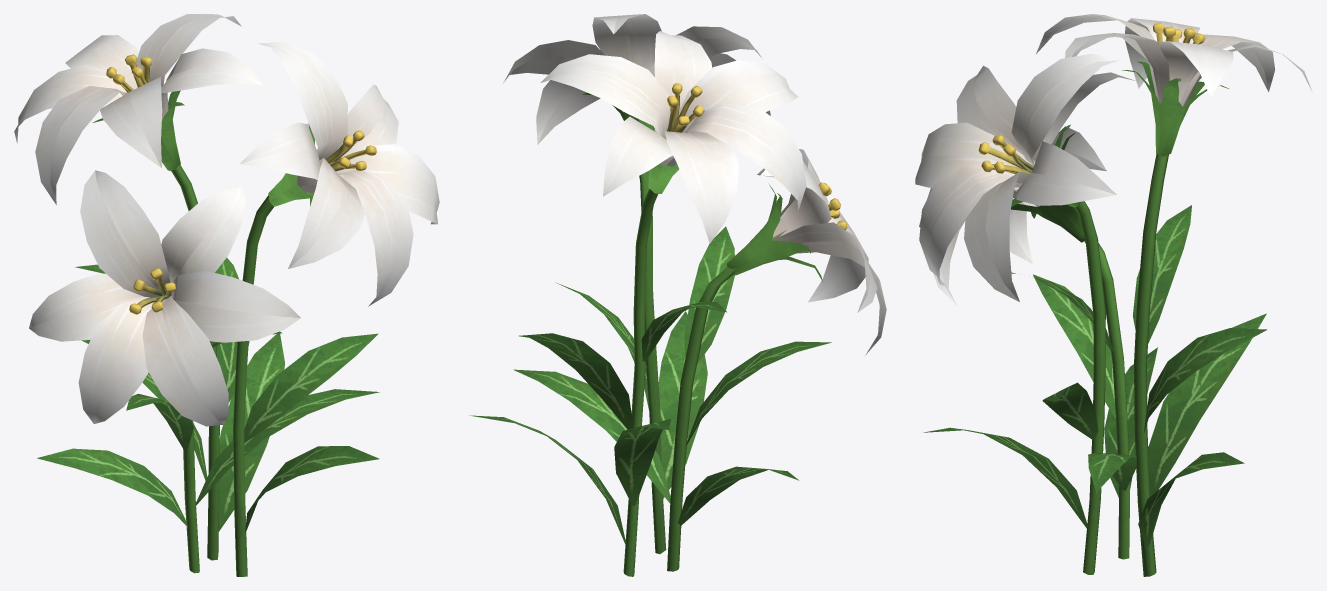
File: MemoRoute_Lily.fbx
The picture shows the model from 3 angles, left to right: view 1: azimuth 30°, elevation 25°; view 2: azimuth 150°, elevation 25°; view 3: azimuth 270°, elevation 25°; orthographic projection. The views are drawn at different scales.
Visible parts, largest first — view 1: MemoRoute_Lily; view 2: MemoRoute_Lily; view 3: MemoRoute_Lily.
Boxes of the visible parts, left/top/right/bottom form: MemoRoute_Lily: left=14, top=14, right=439, bottom=576; MemoRoute_Lily: left=469, top=14, right=886, bottom=576; MemoRoute_Lily: left=915, top=14, right=1311, bottom=576.
Bounding box in the file's own units: 6.04 × 8.25 × 5.52.
